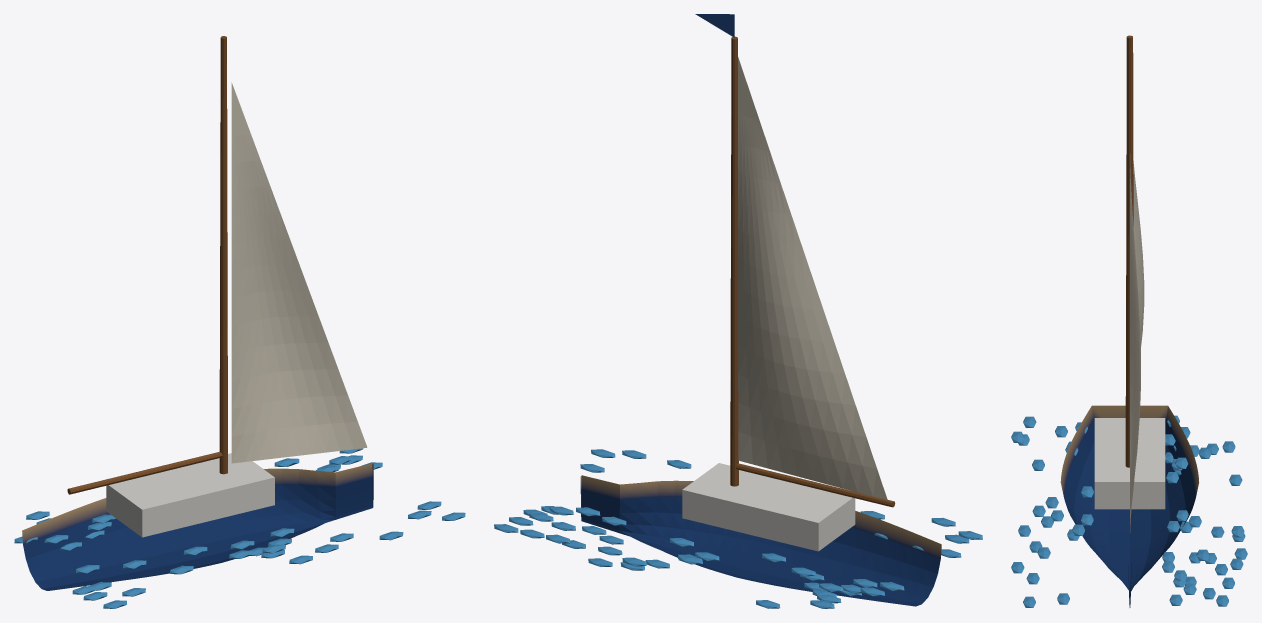
The model's file is sailboat.glb.
The picture shows the model from 3 angles, left to right: view 1: azimuth 30°, elevation 25°; view 2: azimuth 150°, elevation 25°; view 3: azimuth 270°, elevation 25°; orthographic projection. The views are drawn at different scales.
Visible parts, largest first — view 1: Sailboat; view 2: Sailboat; view 3: Sailboat.
Part boxes in pixels (x1=…): Sailboat: x1=14, y1=36, x2=465, y2=608; Sailboat: x1=494, y1=14, x2=982, y2=608; Sailboat: x1=1011, y1=35, x2=1247, y2=607.
Bounding box in the file's own units: 3.45 × 4.65 × 1.88.
